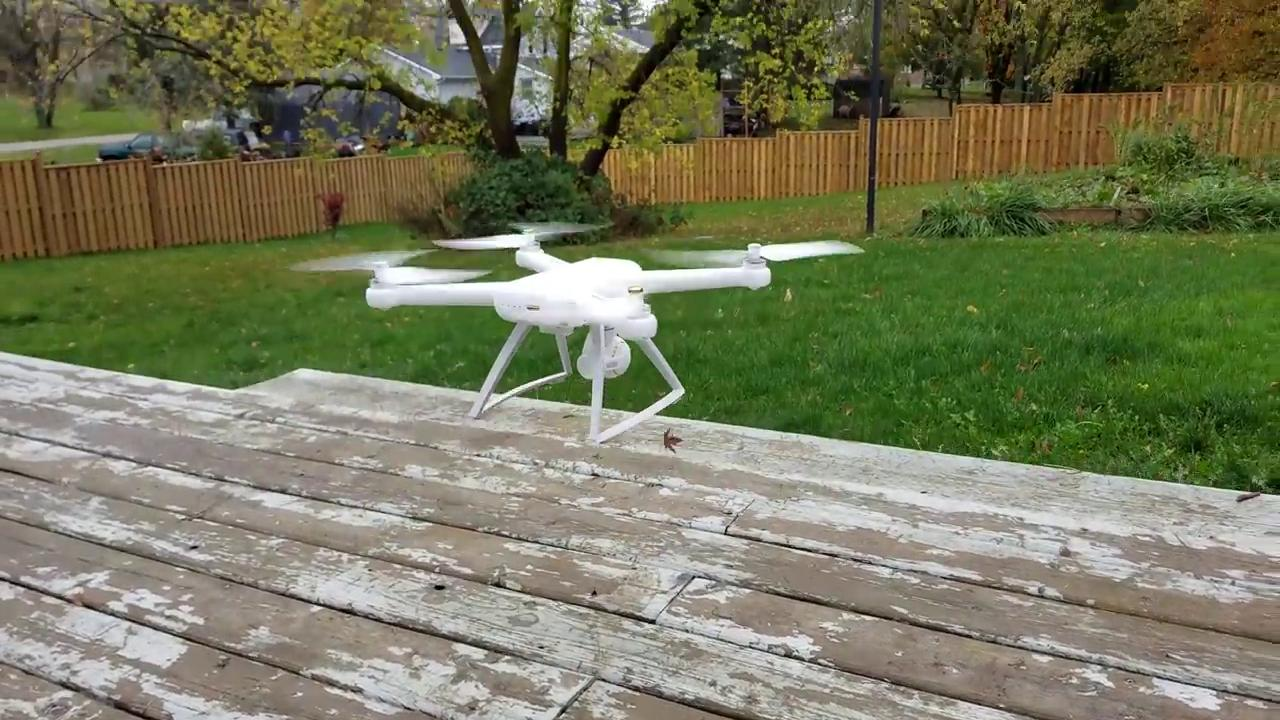drone: (314, 205, 886, 368)
